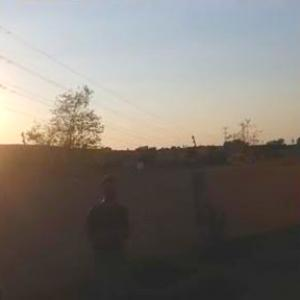follow: (82, 173, 140, 299)
